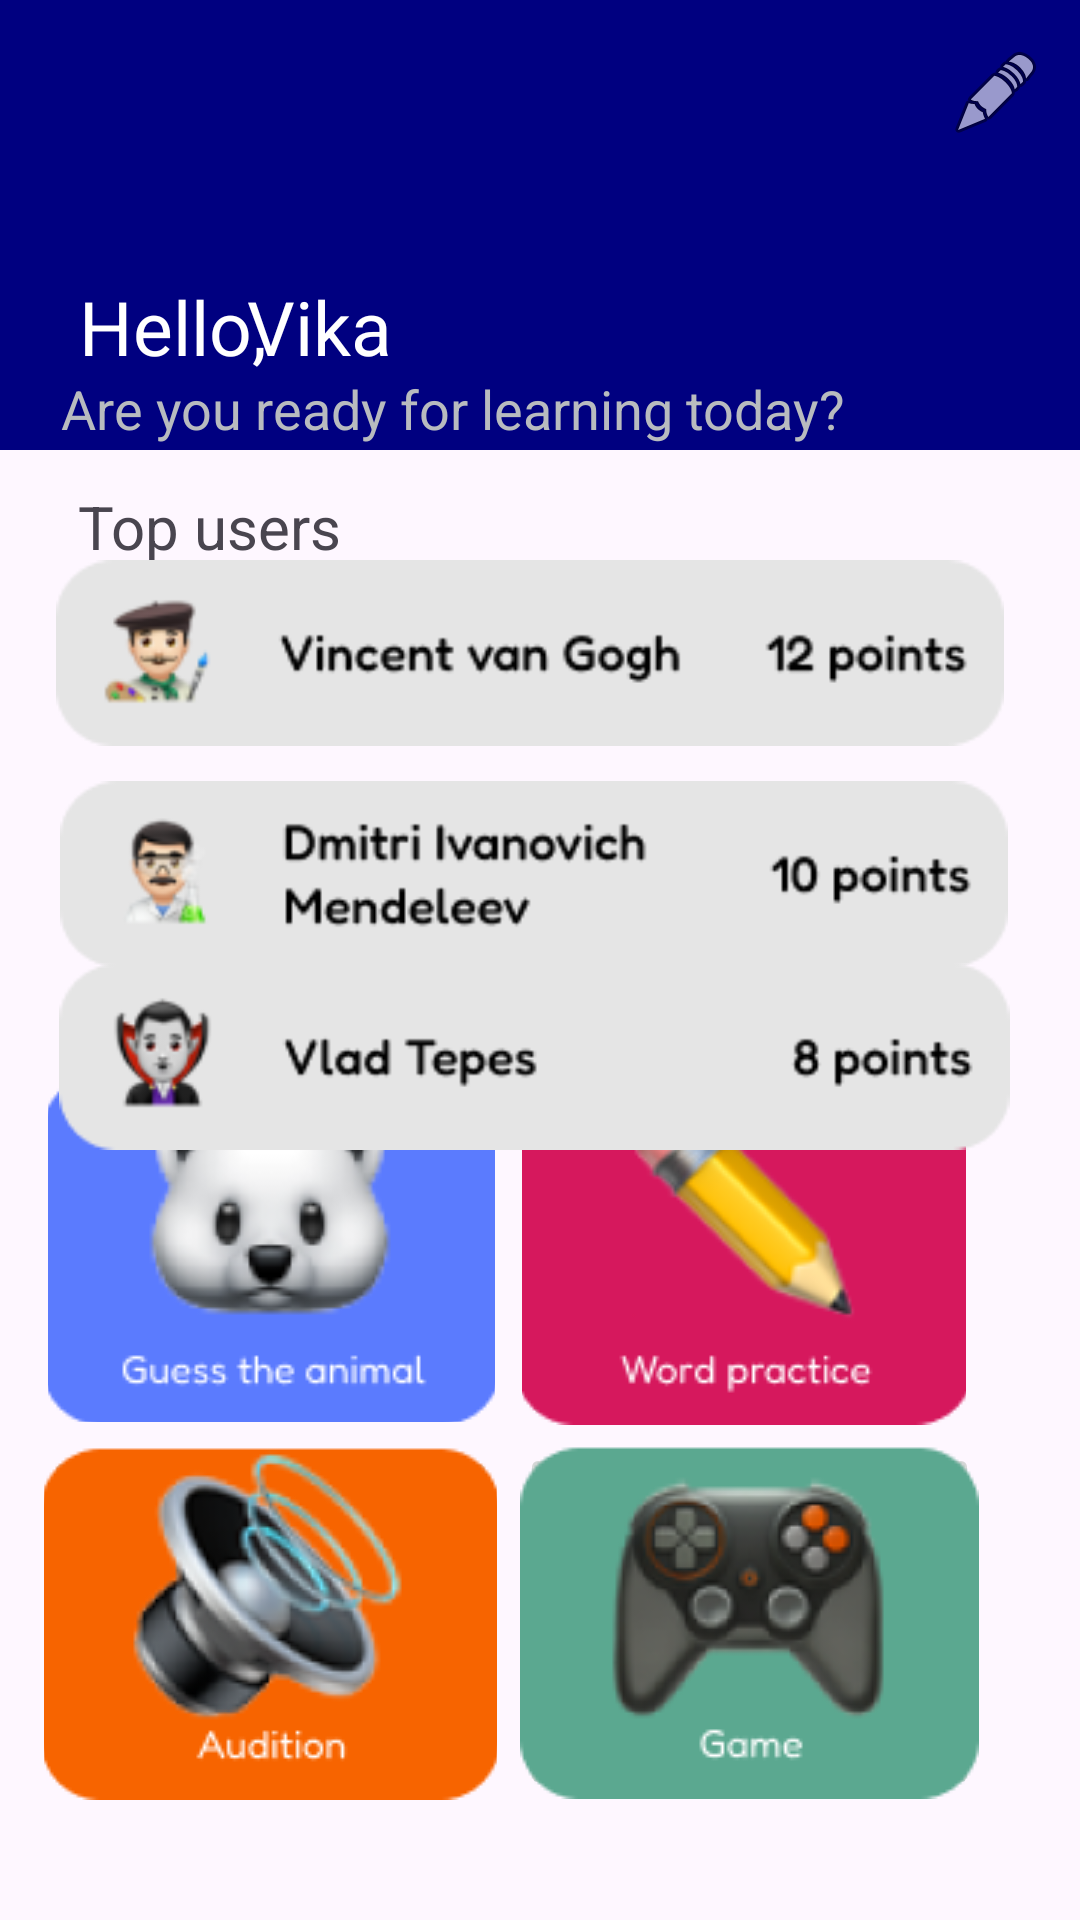

Where icons sit on this 1080px×1920px app screen, as (left=x1, top=y1, right=x2, bottom=y2):
edit: (left=955, top=52, right=1036, bottom=133)
